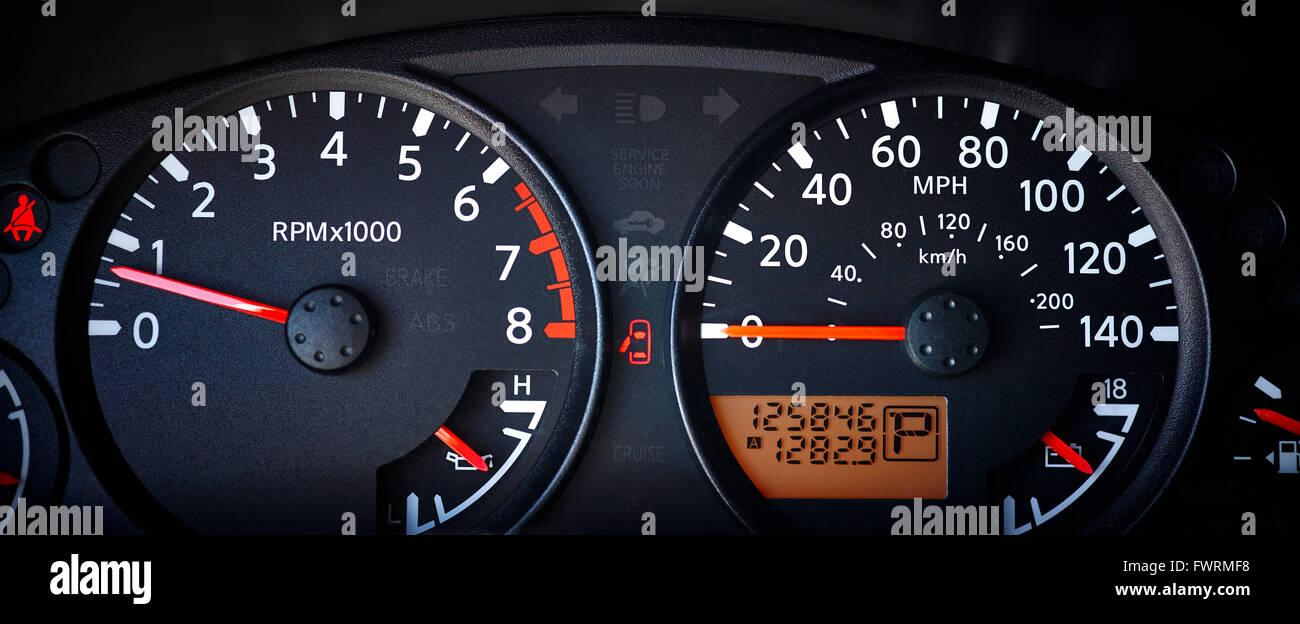-: (852, 459, 856, 466)
1: (751, 403, 760, 432), (774, 436, 783, 465)
2: (762, 401, 784, 432), (832, 434, 852, 466), (786, 436, 806, 464)
4: (833, 404, 854, 432)
5: (786, 402, 806, 431)
6: (857, 402, 877, 433)
8: (808, 434, 829, 466), (809, 401, 830, 432)
9: (857, 435, 877, 466)
X: (883, 405, 939, 463), (746, 436, 761, 449)
odometer: (709, 394, 948, 499)
